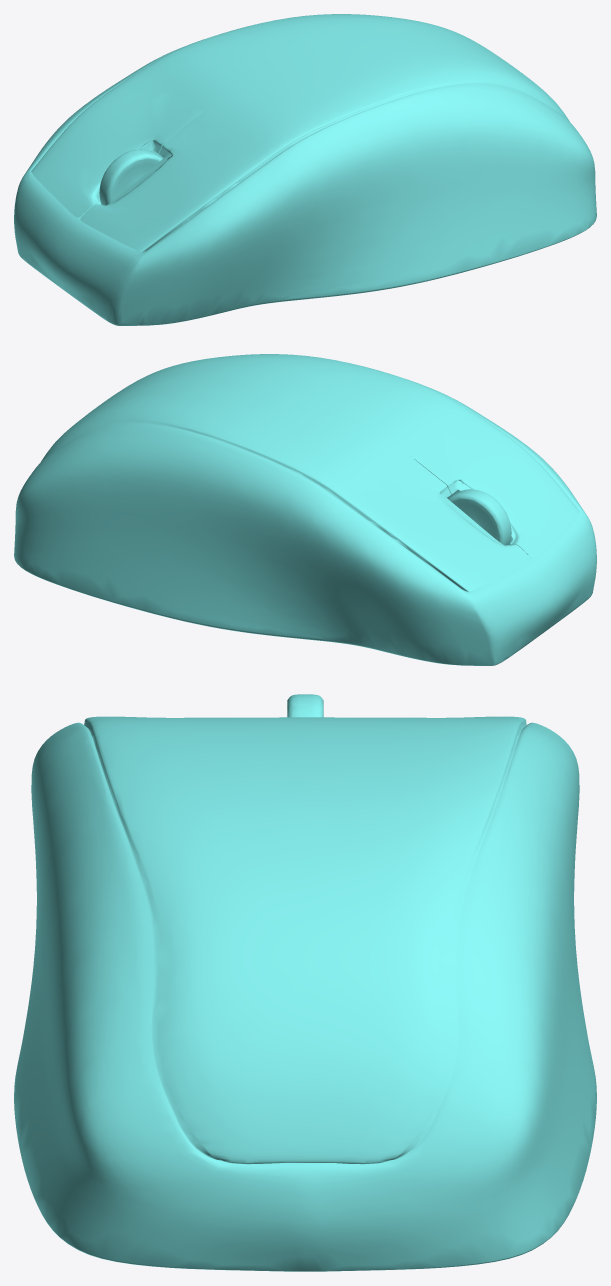
The model's file is mouse.fbx.
The picture shows the model from 3 angles, top to bottom: view 1: azimuth 30°, elevation 25°; view 2: azimuth 150°, elevation 25°; view 3: azimuth 270°, elevation 25°; orthographic projection. The views are drawn at different scales.
Parts seen in each view (by area): view 1: Cube_001; view 2: Cube_001; view 3: Cube_001.
Boxes of the visible parts, x1=… form: Cube_001: x1=14, y1=14, x2=596, y2=325; Cube_001: x1=14, y1=354, x2=596, y2=665; Cube_001: x1=14, y1=694, x2=596, y2=1271.
Size of the model in its own units: 10.09 by 3.34 by 5.74.
